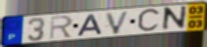3: (27, 16, 47, 42)
A: (76, 13, 104, 37)
C: (136, 6, 163, 34)
N: (160, 4, 188, 33)
R: (48, 15, 75, 41)
V: (105, 10, 131, 36)
